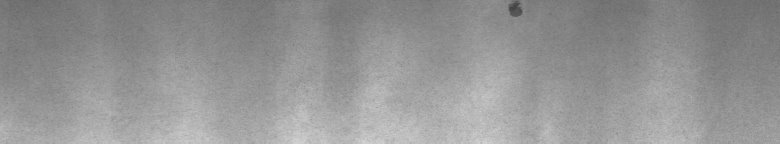fi: (504, 4, 527, 24)
